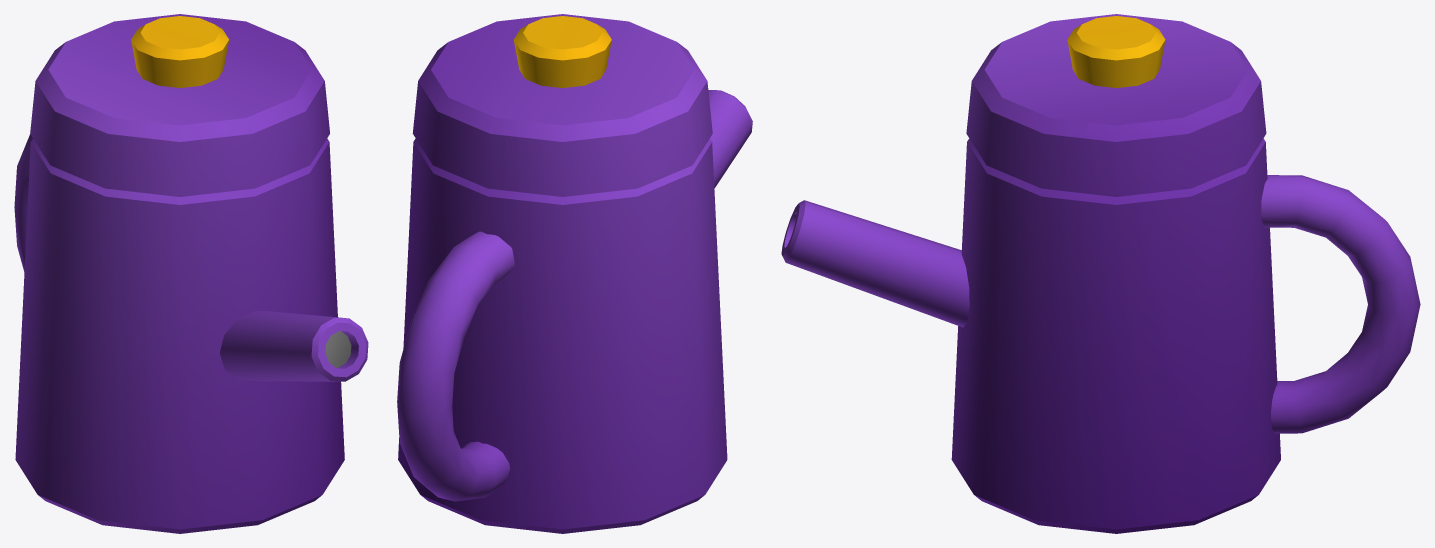
The model's file is Tea Pot_11.fbx.
3 views of the same model, side by side, from view 1: azimuth 30°, elevation 25°; view 2: azimuth 150°, elevation 25°; view 3: azimuth 270°, elevation 25° (orthographic).
Visible parts, largest first — view 1: Tea Pot_11, Tea Pot_11 Top; view 2: Tea Pot_11, Tea Pot_11 Top; view 3: Tea Pot_11, Tea Pot_11 Top.
Part boxes in pixels (box(x1,y1,x2,y2)): Tea Pot_11: box(14, 134, 368, 533); Tea Pot_11 Top: box(30, 14, 329, 196); Tea Pot_11: box(397, 90, 752, 533); Tea Pot_11 Top: box(412, 14, 712, 196); Tea Pot_11: box(781, 138, 1420, 533); Tea Pot_11 Top: box(966, 14, 1266, 196).
Bounding box in the file's own units: 0.1855 × 0.2707 × 0.3599.
